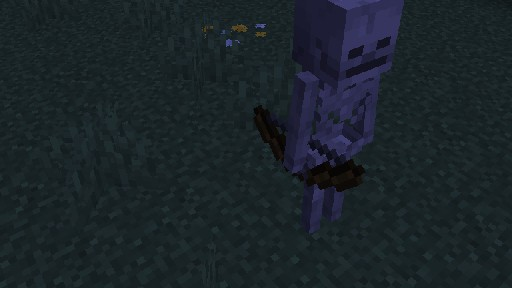skeleton: (252, 0, 405, 234)
